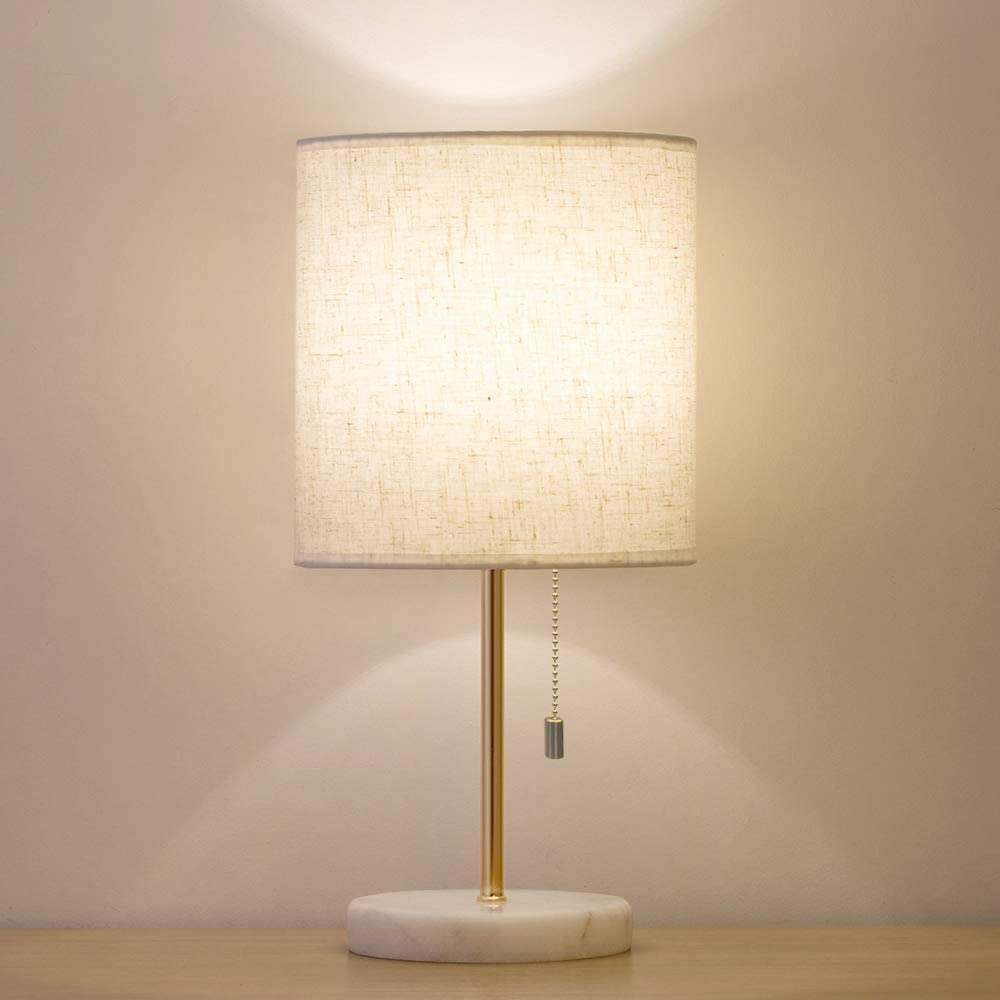lampu: (292, 131, 696, 954)
